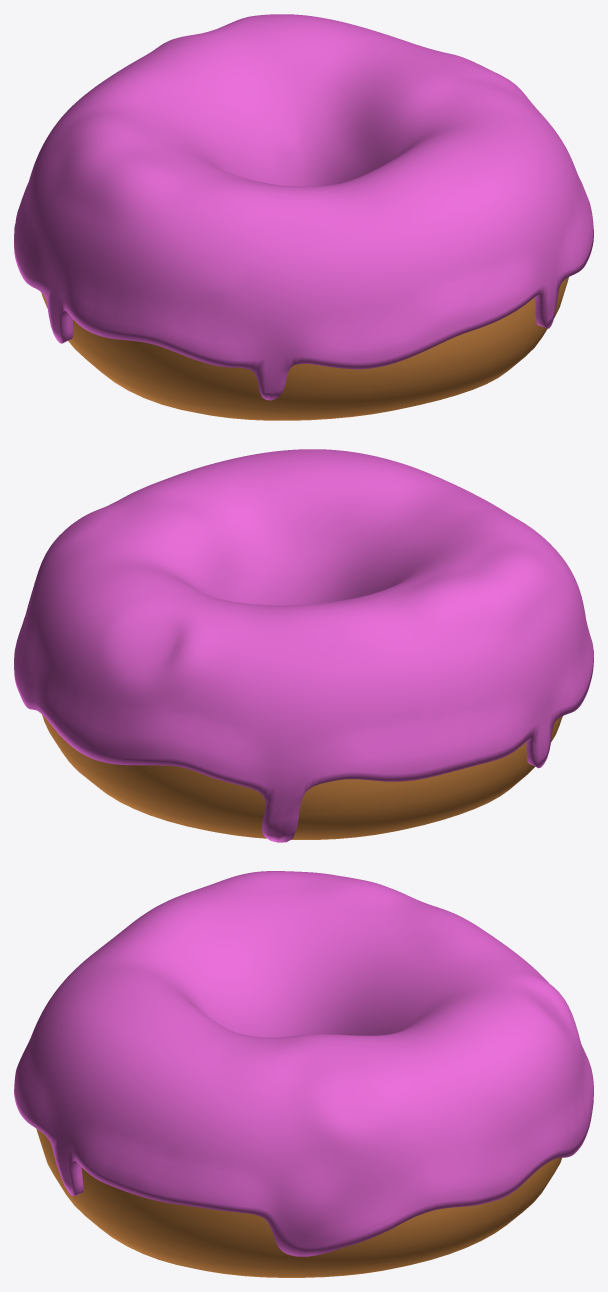
Rendered from Isaias Donut.fbx.
3 views of the same model, one above another, from view 1: azimuth 30°, elevation 25°; view 2: azimuth 150°, elevation 25°; view 3: azimuth 270°, elevation 25° (orthographic).
Parts seen in each view (by area): view 1: icing, Torus; view 2: icing, Torus; view 3: icing, Torus.
Boxes of the visible parts, x1,y1,x2,y2 form: icing: (14,14,593,400); Torus: (41,277,568,420); icing: (14,449,593,842); Torus: (42,715,562,839); icing: (14,871,593,1256); Torus: (36,1129,561,1277).
Size of the model in its own units: 122 by 55.59 by 123.
